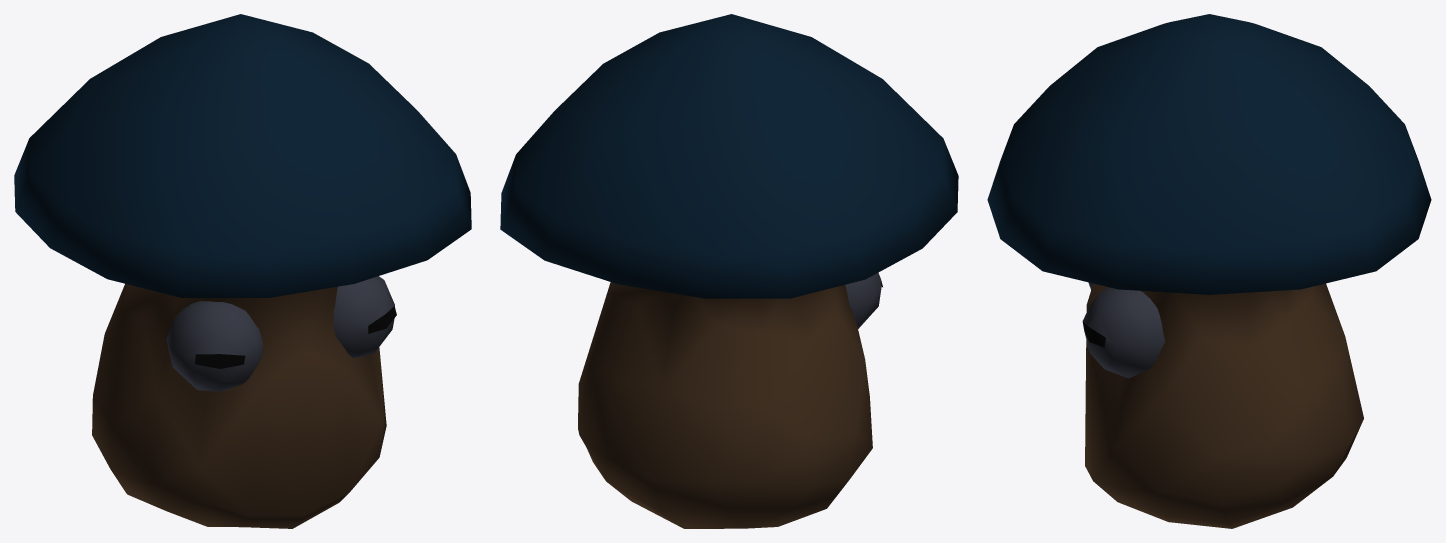
Rendered from mushnub.common-far.glb.
3 views of the same model, side by side, from view 1: azimuth 30°, elevation 25°; view 2: azimuth 150°, elevation 25°; view 3: azimuth 270°, elevation 25° (orthographic).
Parts seen in each view (by area): view 1: HordeReadyRigidMesh; view 2: HordeReadyRigidMesh; view 3: HordeReadyRigidMesh.
Boxes of the visible parts, x1=… form: HordeReadyRigidMesh: x1=14, y1=14, x2=471, y2=528; HordeReadyRigidMesh: x1=500, y1=14, x2=958, y2=528; HordeReadyRigidMesh: x1=987, y1=14, x2=1431, y2=528.
Bounding box in the file's own units: 0.9985 × 1.22 × 0.9985.
